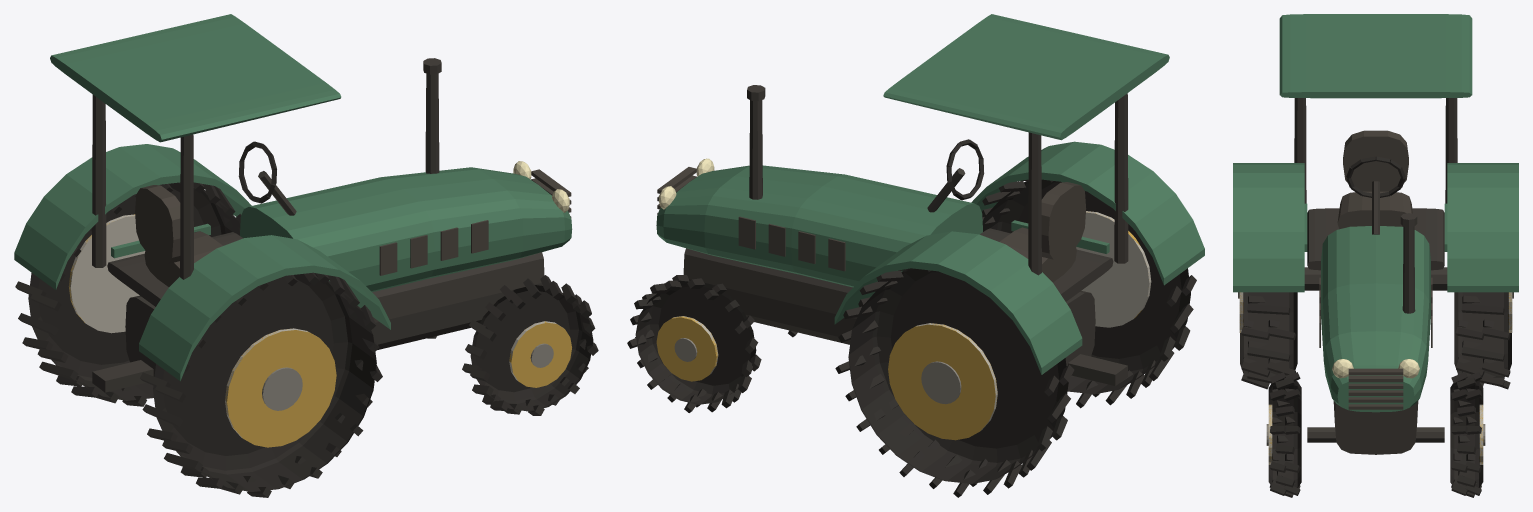
The model's file is traktor-yesil.glb.
3 renders of one model, left to right at view 1: azimuth 30°, elevation 25°; view 2: azimuth 150°, elevation 25°; view 3: azimuth 270°, elevation 25°, orthographic. The views are drawn at different scales.
Parts seen in each view (by area): view 1: a_yesil, lastik, demir, a_hardal, ic, jant, tampon; view 2: a_yesil, lastik, demir, a_hardal, ic, jant, tampon; view 3: a_yesil, lastik, demir, ic, jant, far, a_hardal.
Part boxes in pixels (x1,y1,x2,y2): a_yesil: (14,14,572,381); lastik: (15,141,598,497); demir: (92,58,544,392); a_hardal: (69,214,571,447); ic: (135,169,571,286); jant: (69,214,562,437); tampon: (262,343,553,410); a_yesil: (656,14,1204,374); lastik: (627,139,1196,497); demir: (683,85,1128,385); a_hardal: (656,212,1141,440); ic: (657,167,1086,282); jant: (673,211,1151,430); tampon: (674,338,961,404); a_yesil: (1233,14,1518,412); lastik: (1240,156,1511,497); demir: (1294,98,1457,454); ic: (1319,130,1432,409); jant: (1239,292,1512,464); far: (1332,359,1419,378); a_hardal: (1239,292,1512,464).
Bounding box in the file's own units: 3.35 × 2.6 × 2.08.
